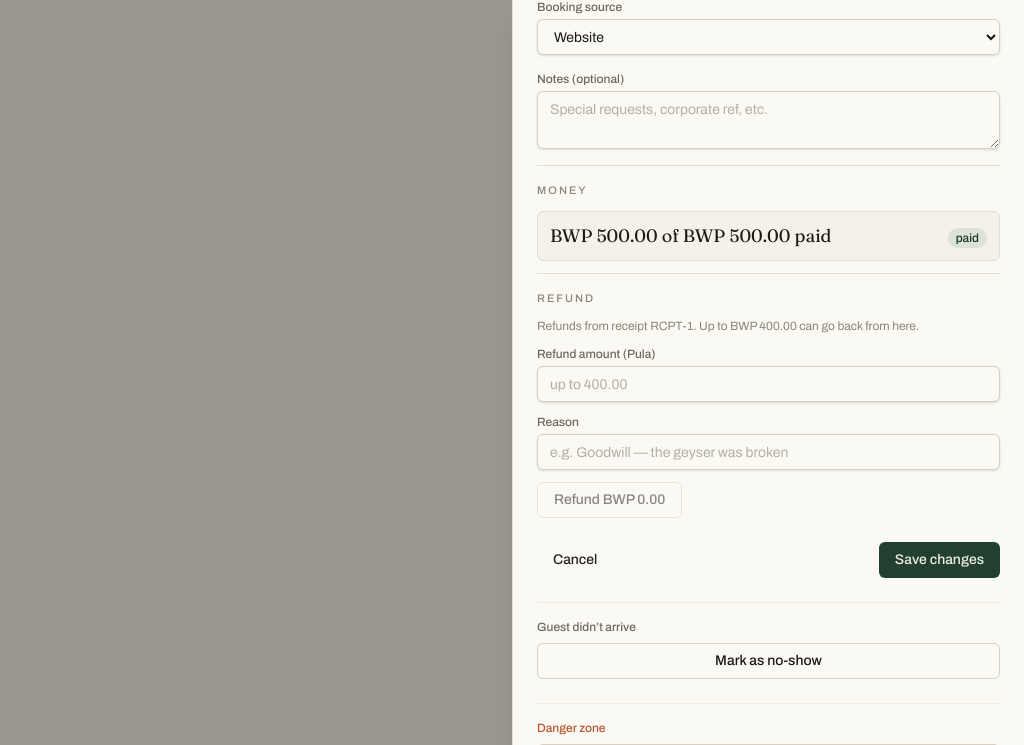
it: ReservationFormDrawer — the money on a booking › refunding from the booking › shows the server’s question when it asks (its figures may be newer than the screen’s)
(page scrolled)
Type "100" into the field labelled "Refund amount (Pula)" at (768, 384), box [537,366,1000,402]
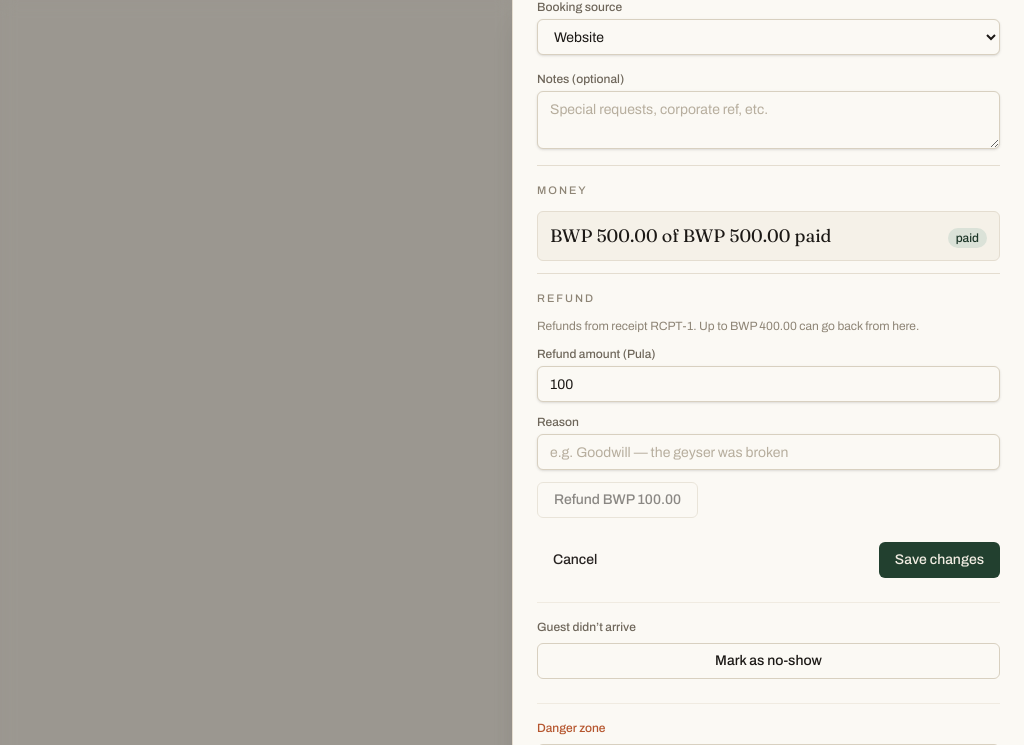
Type "x" into the field labelled "Reason" at (768, 452), box [537,434,1000,470]
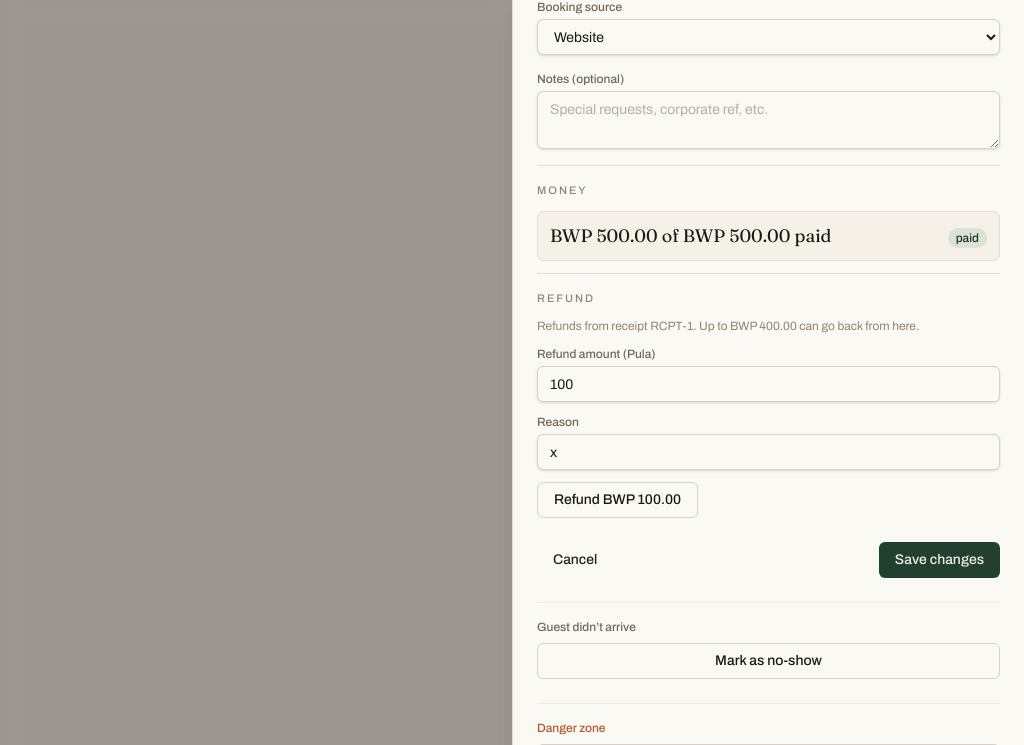
Click the button "Refund BWP 100.00" at (618, 500), box [537,482,698,518]
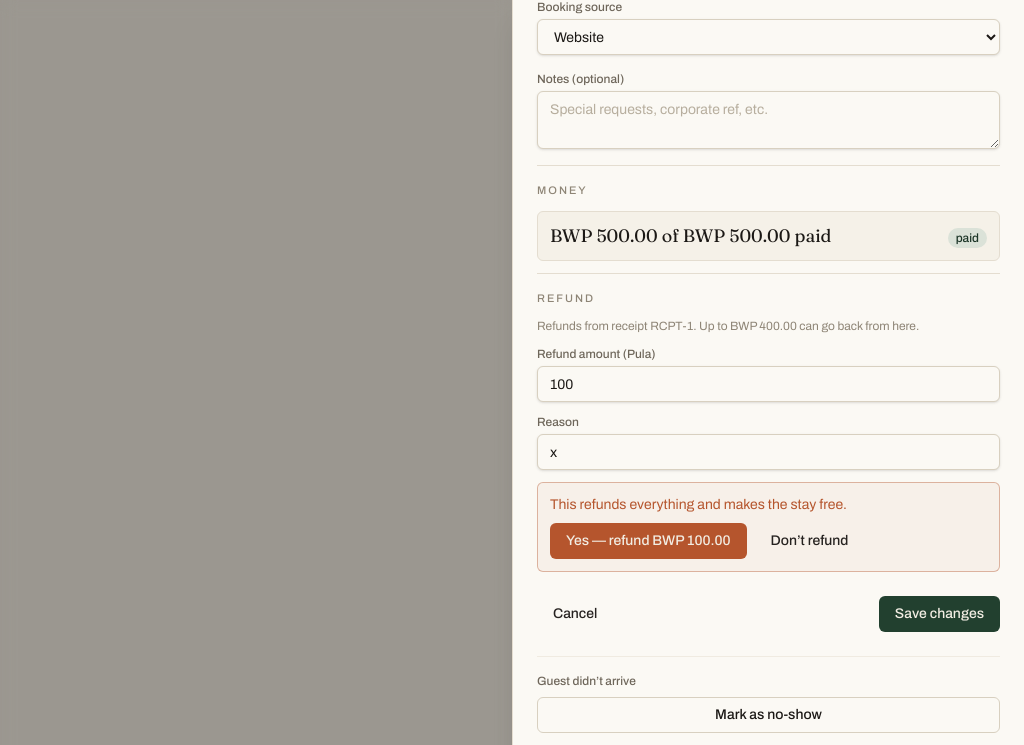
Result: the message shows "This refunds everything and makes the stay free." at [550,497,847,512]
